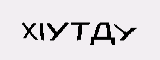І: (37, 20, 48, 42)
Д: (89, 20, 116, 46)
Т: (68, 19, 90, 41)
У: (46, 18, 68, 42), (114, 21, 136, 44)
Х: (17, 19, 38, 42)
